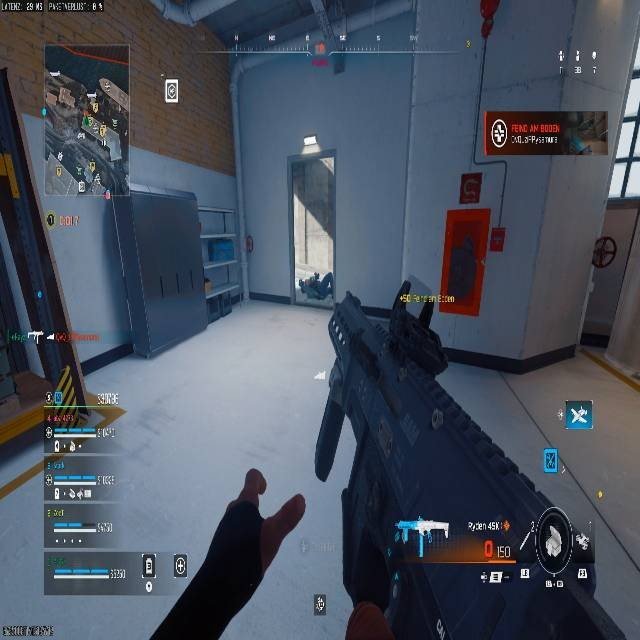head: (311, 272, 320, 280)
